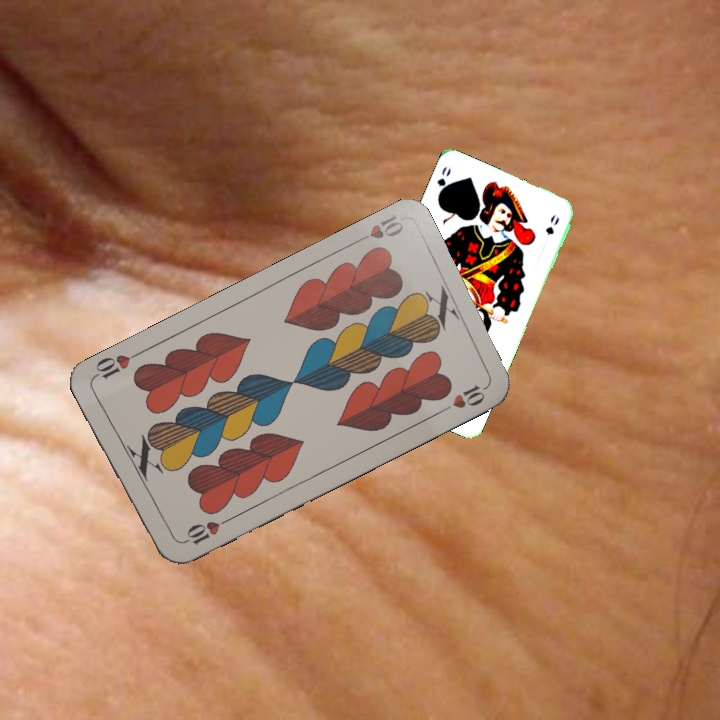GO: (433, 162, 453, 202)
H10: (349, 210, 406, 247), (176, 514, 232, 548)
